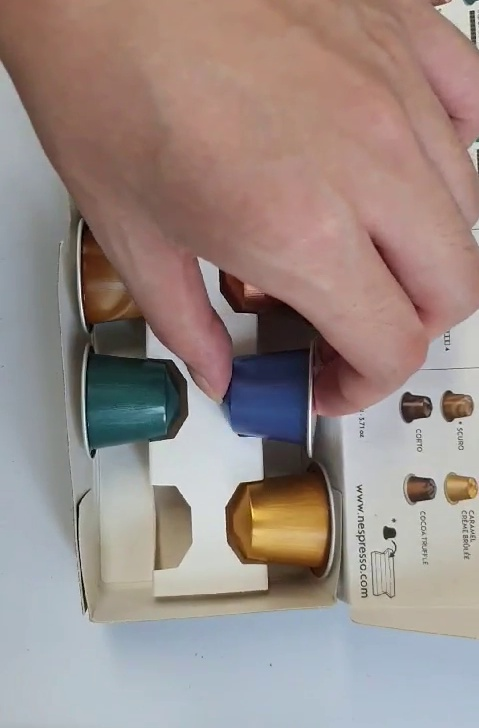capsule_7: (219, 341, 334, 460)
